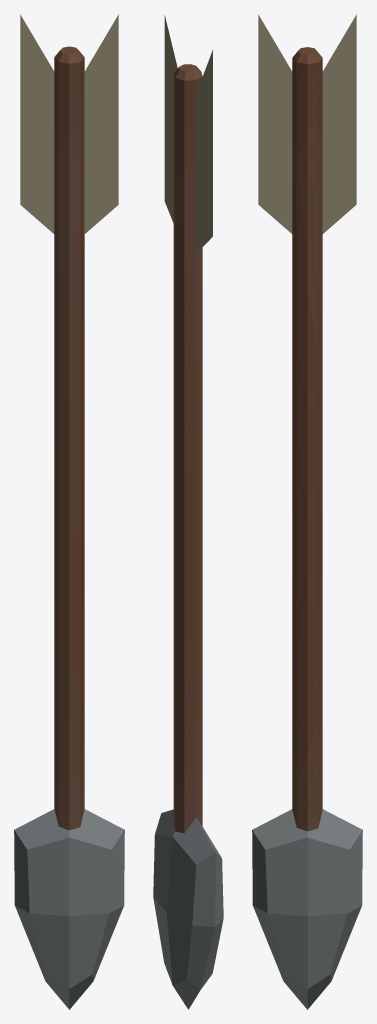
The model's file is MDL_ 3_ Arrow_ ForArcher.fbx.
The picture shows the model from 3 angles, left to right: view 1: azimuth 90°, elevation 25°; view 2: azimuth 210°, elevation 25°; view 3: azimuth 270°, elevation 25°; orthographic projection.
Visible parts, largest first — view 1: G_3_TowerBow.Arrow; view 2: G_3_TowerBow.Arrow; view 3: G_3_TowerBow.Arrow.
Part boxes in pixels (<box>): G_3_TowerBow.Arrow: <box>14,14,124,1009</box>; G_3_TowerBow.Arrow: <box>153,15,223,1009</box>; G_3_TowerBow.Arrow: <box>252,14,362,1009</box>.
Bounding box in the file's own units: 2.66 × 57.37 × 5.78.
